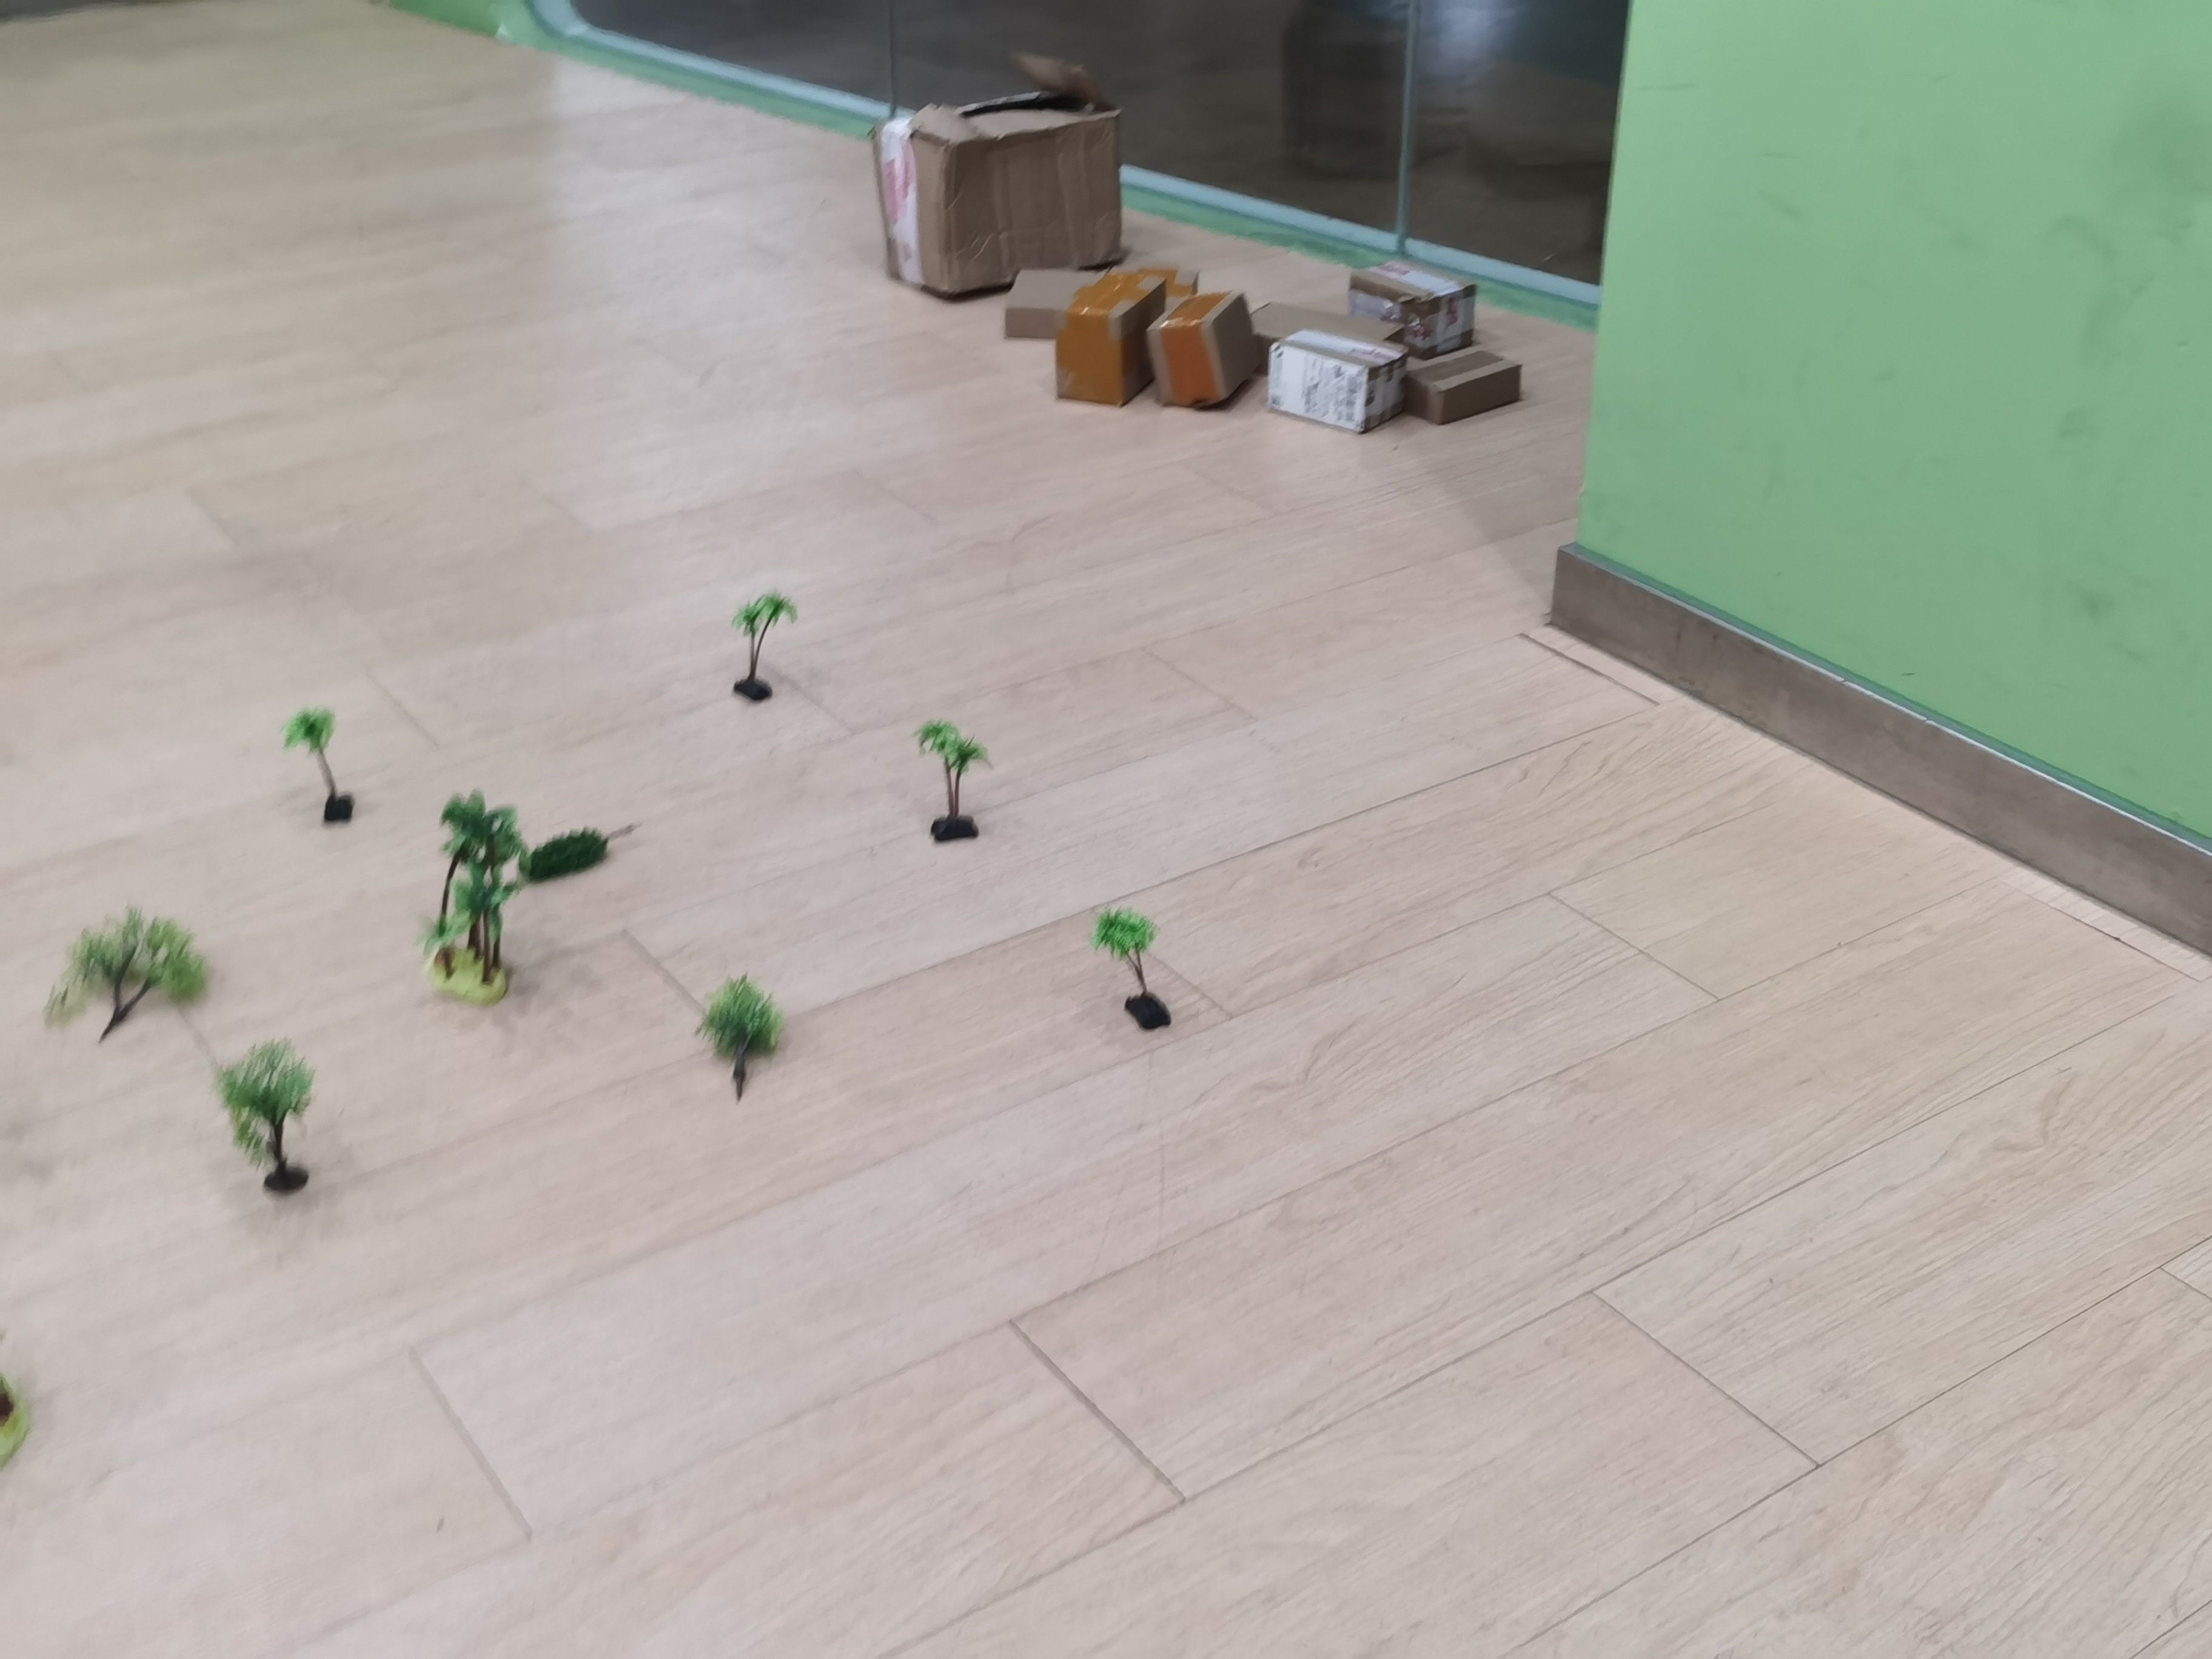corn: (384, 794, 530, 1002), (892, 717, 999, 852), (1081, 903, 1178, 1037), (719, 580, 809, 711), (273, 697, 362, 829)
